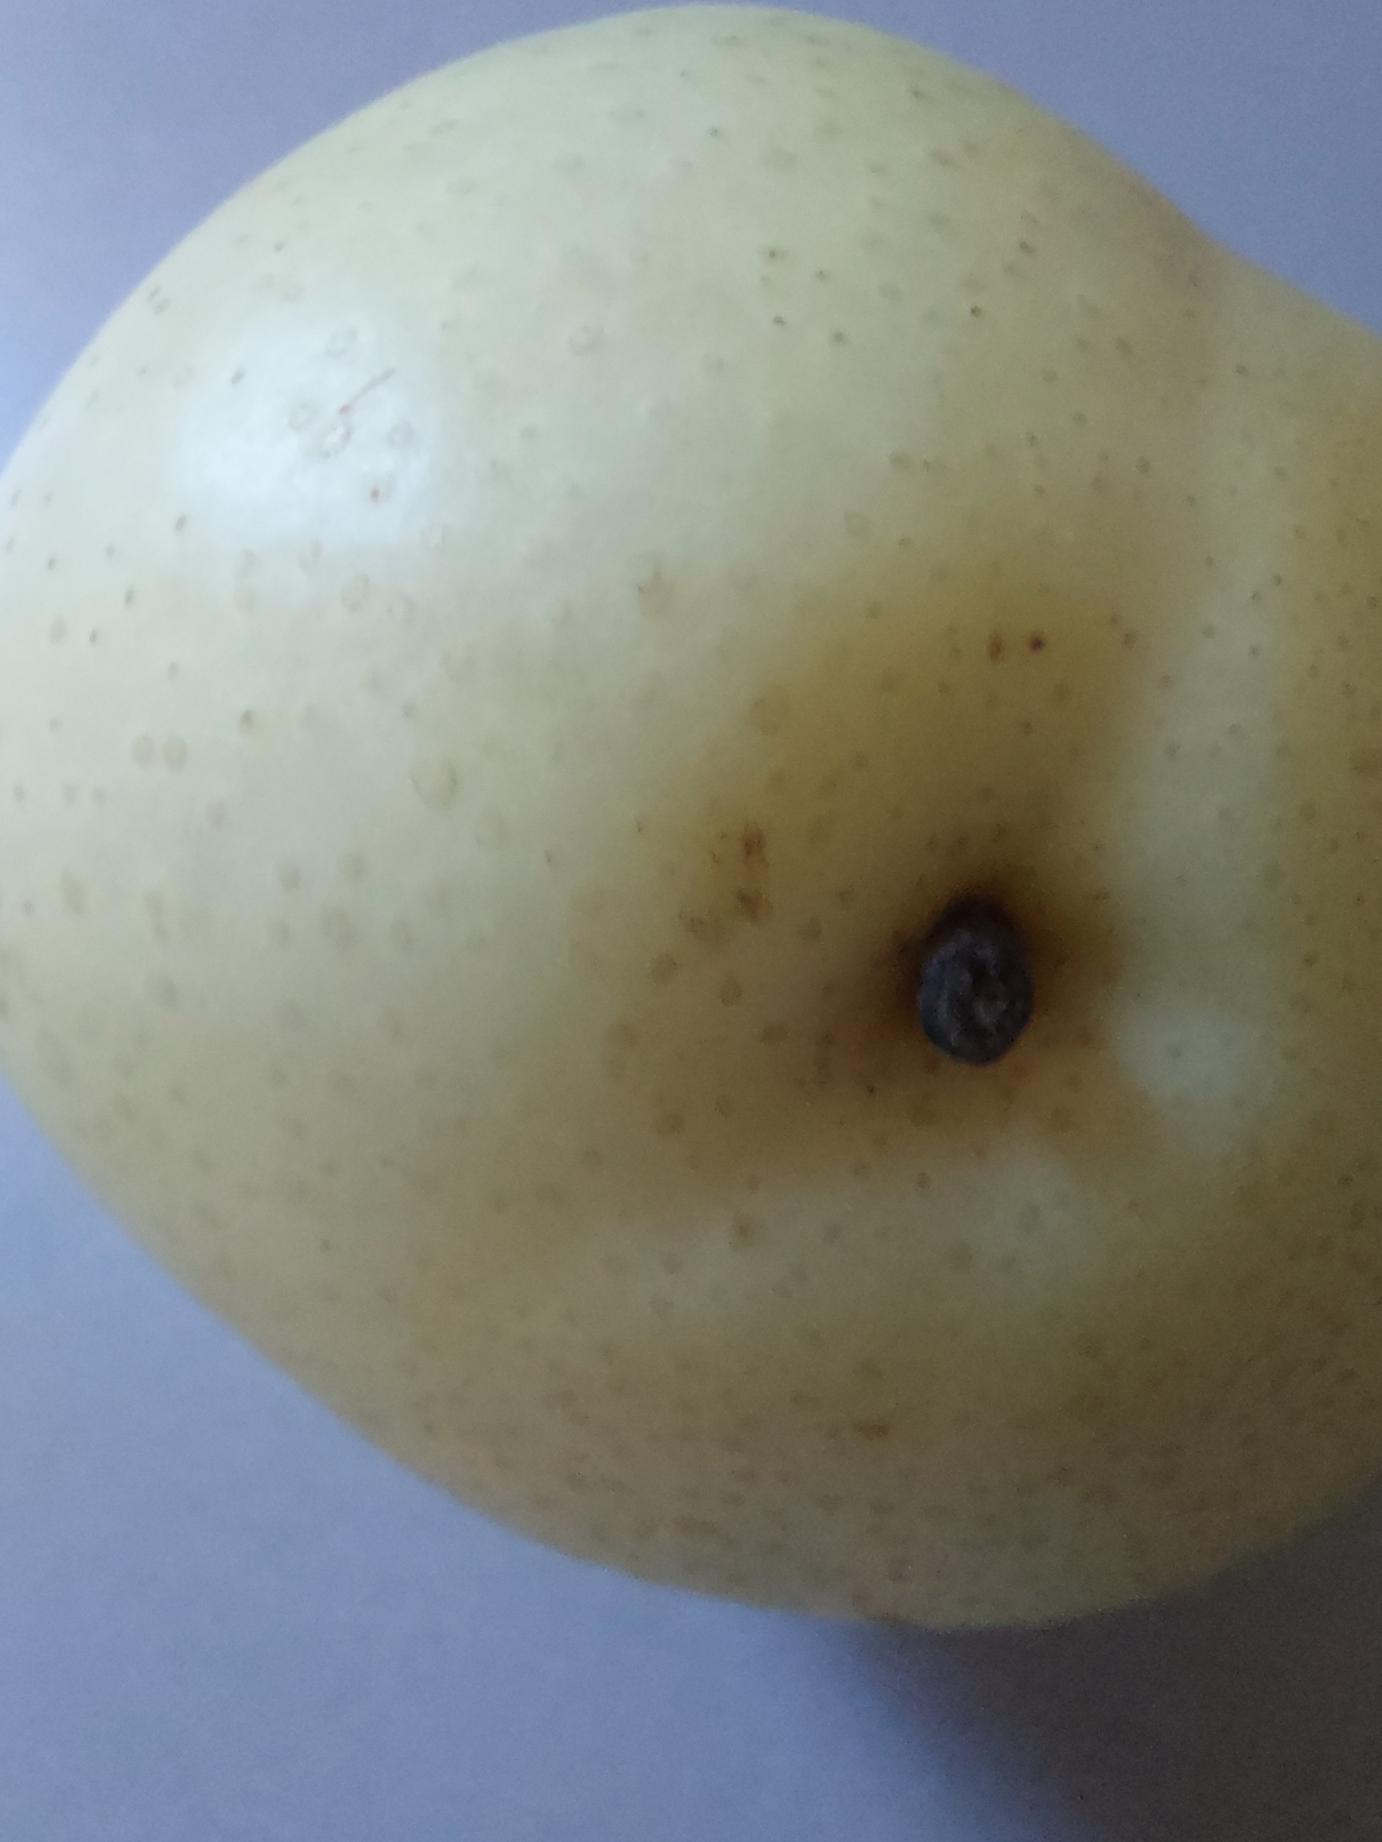Good Pear: (0, 0, 1382, 1650)
